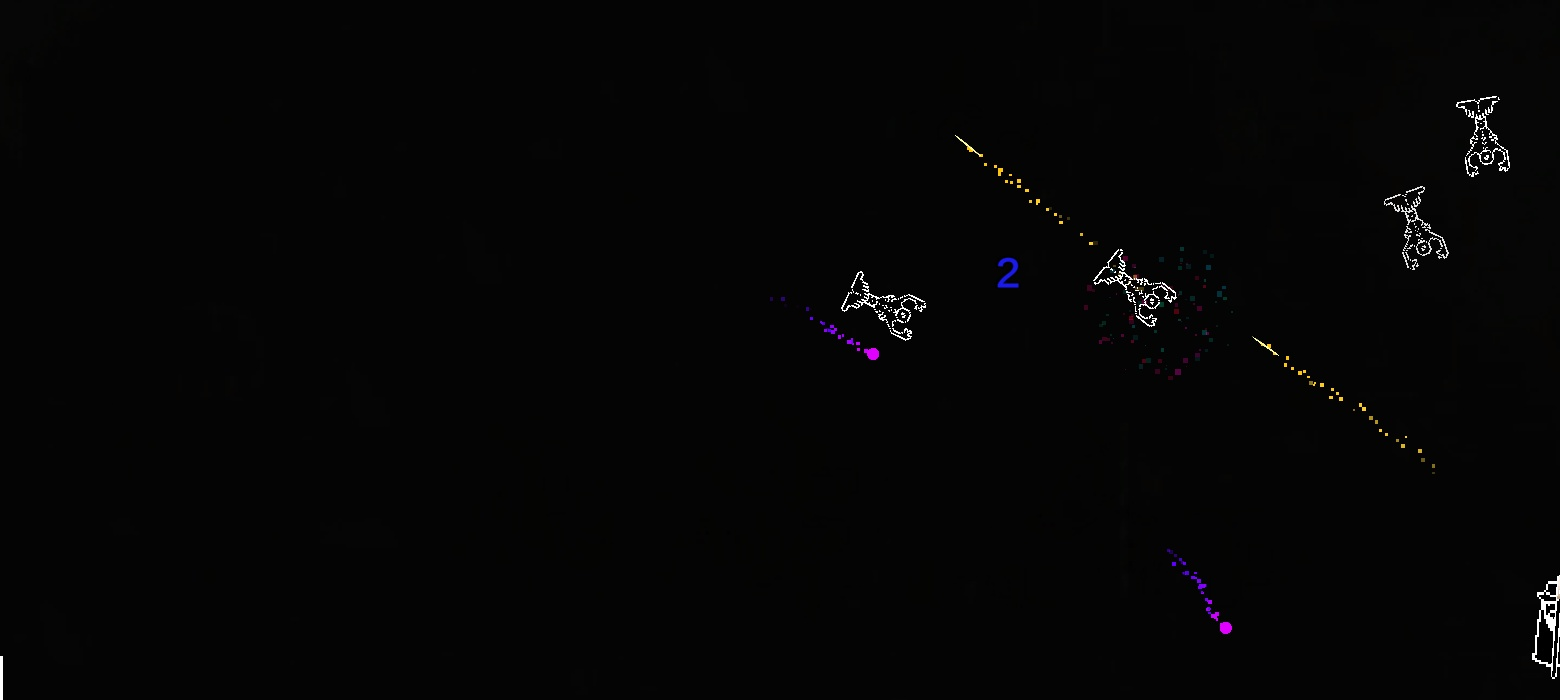enemy: (1093, 249, 1177, 328), (841, 270, 926, 340), (1383, 186, 1449, 271), (1456, 95, 1510, 177)
